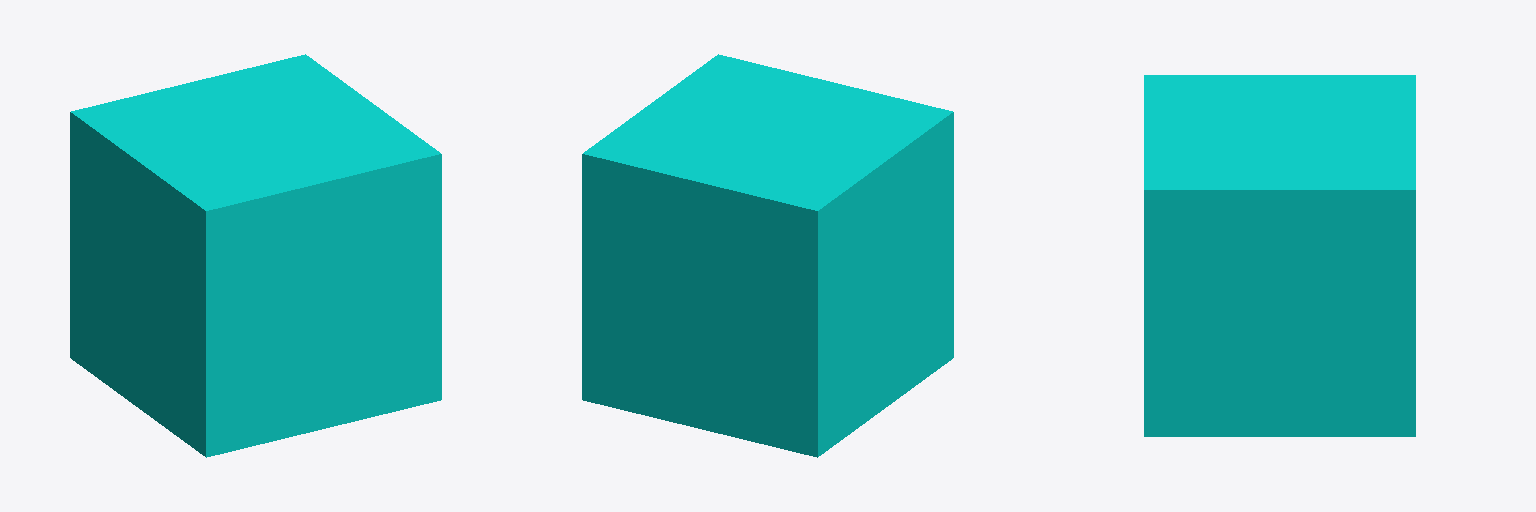
The picture shows the model from 3 angles: view 1: azimuth 30°, elevation 25°; view 2: azimuth 150°, elevation 25°; view 3: azimuth 270°, elevation 25°; orthographic projection.
Parts seen in each view (by area): view 1: object 1; view 2: object 1; view 3: object 1.
Part boxes in pixels (left/top/right/bottom): object 1: left=70, top=54, right=441, bottom=457; object 1: left=582, top=54, right=953, bottom=457; object 1: left=1144, top=75, right=1415, bottom=436.
Bounding box in the file's own units: 1 × 1 × 1.
Materials: 1 (1 with a texture image).